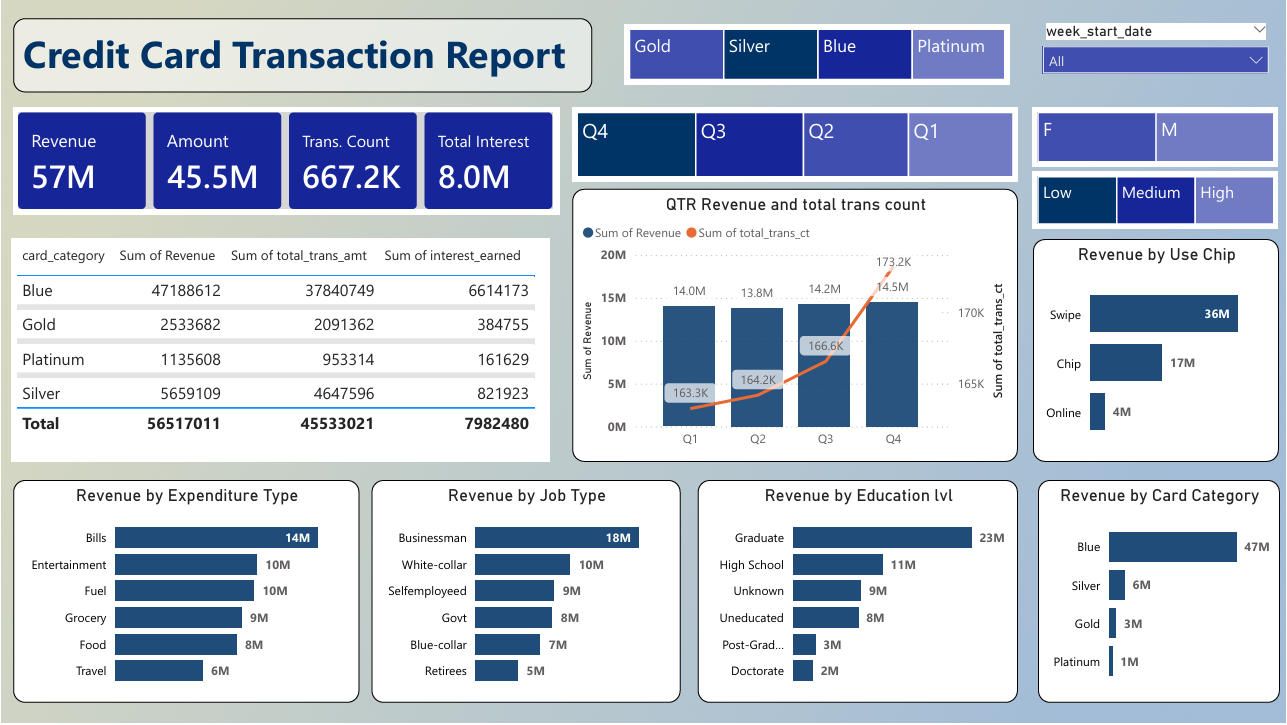

What the dashboard file says about the page in this screenshot:
{"tool":"powerbi","page":{"name":"CC Transaction","canvas":[1280,720],"ordinal":0},"visuals":[{"type":"barChart","title":"Revenue by Use Chip","fields":{"Category":["public cc_details.use_chip"],"Y":["Sum(public cc_details.Revenue)"]},"box":[1028.1,237.7,244.7,222],"z":0},{"type":"textbox","box":[12.1,18.1,576.7,73.6],"z":1000},{"type":"lineStackedColumnComboChart","title":"QTR Revenue and total trans count","fields":{"Y":["Sum(public cc_details.Revenue)"],"Category":["public cc_details.qtr"],"Y2":["Sum(public cc_details.total_trans_ct)"]},"box":[569.4,188.2,444,271.4],"z":2000},{"type":"barChart","title":"Revenue by Education lvl","fields":{"Y":["Sum(public cc_details.Revenue)"],"Category":["public cust_detail.education_level"]},"box":[693.7,477.8,319.7,222],"z":3000},{"type":"barChart","title":"Revenue by Card Category","fields":{"Y":["Sum(public cc_details.Revenue)"],"Category":["public cc_details.card_category"]},"box":[1032.7,477.8,241.3,222],"z":4000},{"type":"barChart","title":"Revenue by Expenditure Type","fields":{"Category":["public cc_details.exp_type"],"Y":["Sum(public cc_details.Revenue)"]},"box":[12.1,477.8,345,222],"z":5000},{"type":"barChart","title":"Revenue by Job Type","fields":{"Y":["Sum(public cc_details.Revenue)"],"Category":["public cust_detail.customer_job"]},"box":[369.2,477.8,307.6,222],"z":6000},{"type":"tableEx","fields":{"Values":["public cc_details.card_category","Sum(public cc_details.Revenue)","Sum(public cc_details.total_trans_amt)","Sum(public cc_details.interest_earned)"]},"box":[9.6,237.4,536.5,222.3],"z":7000},{"type":"slicer","fields":{"Values":["public cc_details.week_start_date"]},"box":[1027.9,18.1,244.9,73.6],"z":8000},{"type":"treemap","fields":{"Group":["public cc_details.qtr"],"Values":["Avg(public cc_details.client_num)"]},"box":[569.4,107.4,444,73.6],"z":9000},{"type":"treemap","fields":{"Values":["Avg(public cc_details.client_num)","select"],"Group":["public cust_detail.IncomeGroup"]},"box":[1027.9,171.3,244.9,56.7],"z":10000},{"type":"treemap","fields":{"Values":["Avg(public cc_details.client_num)"],"Group":["public cc_details.card_category"]},"box":[621.3,24.1,383.6,60.3],"z":11000},{"type":"treemap","fields":{"Group":["public cust_detail.gender"],"Values":["Avg(public cc_details.client_num)"]},"box":[1027.9,107.4,244.9,59.1],"z":12000},{"type":"cardVisual","fields":{"Data":["Sum(public cc_details.Revenue)","Sum(public cc_details.total_trans_amt)","Sum(public cc_details.total_trans_ct)","Sum(public cc_details.interest_earned)"]},"box":[12.1,107.4,544.1,106.2],"z":13000}]}

Visuals, with their boxes in screenshot pixels (x1, y1, x2, y2), scaled from the page's 1280x720 canvas onto the 1287x725 screenshot:
"Revenue by Use Chip" barChart: {"x1": 1034, "y1": 239, "x2": 1280, "y2": 463}
textbox: {"x1": 12, "y1": 18, "x2": 592, "y2": 92}
"QTR Revenue and total trans count" lineStackedColumnComboChart: {"x1": 573, "y1": 190, "x2": 1019, "y2": 463}
"Revenue by Education lvl" barChart: {"x1": 697, "y1": 481, "x2": 1019, "y2": 705}
"Revenue by Card Category" barChart: {"x1": 1038, "y1": 481, "x2": 1281, "y2": 705}
"Revenue by Expenditure Type" barChart: {"x1": 12, "y1": 481, "x2": 359, "y2": 705}
"Revenue by Job Type" barChart: {"x1": 371, "y1": 481, "x2": 681, "y2": 705}
tableEx - public cc_details.card_category x Sum(public cc_details.Revenue): {"x1": 10, "y1": 239, "x2": 549, "y2": 463}
slicer - public cc_details.week_start_date: {"x1": 1034, "y1": 18, "x2": 1280, "y2": 92}
treemap - public cc_details.qtr x Avg(public cc_details.client_num): {"x1": 573, "y1": 108, "x2": 1019, "y2": 182}
treemap - Avg(public cc_details.client_num) x select: {"x1": 1034, "y1": 172, "x2": 1280, "y2": 230}
treemap - Avg(public cc_details.client_num) x public cc_details.card_category: {"x1": 625, "y1": 24, "x2": 1010, "y2": 85}
treemap - public cust_detail.gender x Avg(public cc_details.client_num): {"x1": 1034, "y1": 108, "x2": 1280, "y2": 168}
cardVisual - Sum(public cc_details.Revenue) x Sum(public cc_details.total_trans_amt): {"x1": 12, "y1": 108, "x2": 559, "y2": 215}
